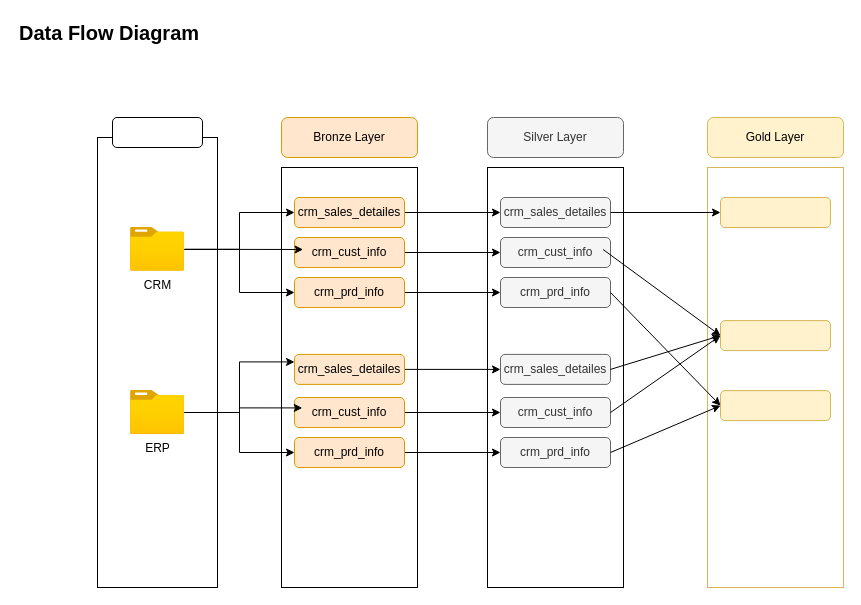
Some shapes in this 861 by 605 pixel diagram are drawn without their labels. Each missing label, with the centre of its shape:
"dim_customers" belongs at point 775,335.
"dim_products" belongs at point 775,405.
"fact_sales" belongs at point 775,212.
"Source" belongs at point 157,132.
